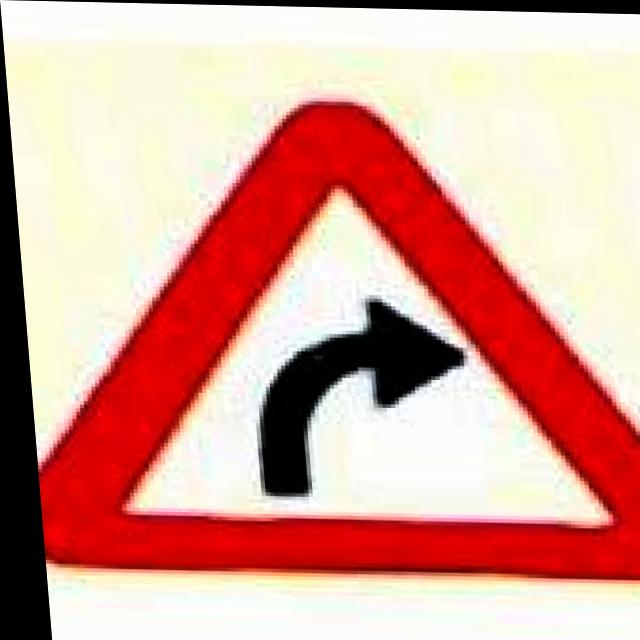RIGHT_HAND_CURVE: (5, 80, 640, 586)
